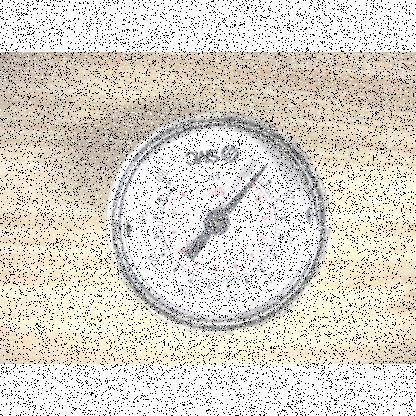needle: (221, 163, 269, 217)
